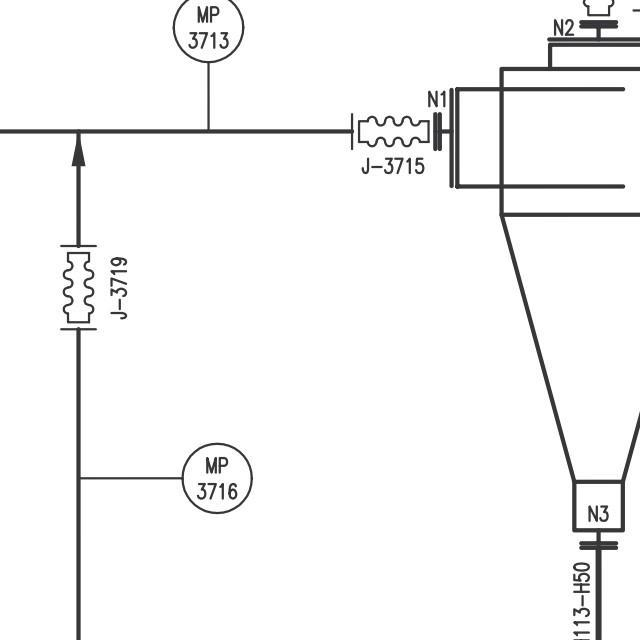CY: (443, 32, 640, 535)
EJ: (56, 239, 100, 337), (345, 109, 438, 153)
